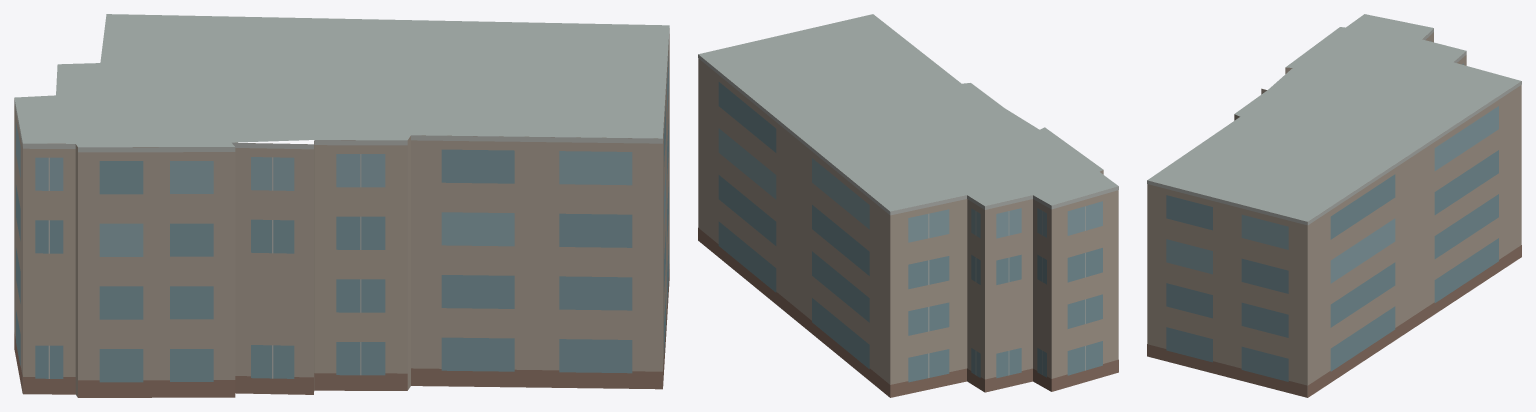
File: survey-upis-33009688.glb
3 renders of one model, left to right at view 1: azimuth 30°, elevation 25°; view 2: azimuth 150°, elevation 25°; view 3: azimuth 270°, elevation 25°, orthographic. The views are drawn at different scales.
Parts seen in each view (by area): view 1: survey-upis-33009688.tmp; view 2: survey-upis-33009688.tmp; view 3: survey-upis-33009688.tmp.
Boxes of the visible parts, bbox=[...] form: survey-upis-33009688.tmp: bbox=[14, 14, 669, 397]; survey-upis-33009688.tmp: bbox=[698, 14, 1118, 397]; survey-upis-33009688.tmp: bbox=[1147, 14, 1521, 397].
Size of the model in its own units: 30.14 by 11.9 by 22.96.
